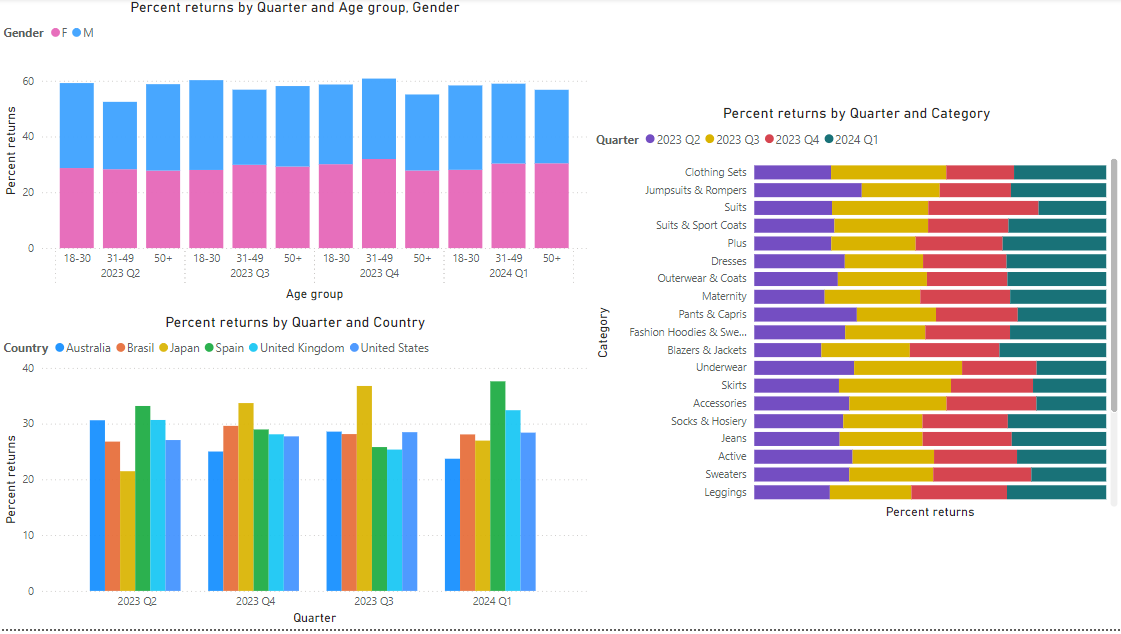

The dashboard page shown, as its layout file describes it:
{"tool":"powerbi","page":{"name":"Order Analysis","canvas":[1280,720],"ordinal":2},"visuals":[{"type":"clusteredColumnChart","title":"Percent returns by Quarter and Country","fields":{"Category":["03_01_return_rate_by_country.quarter"],"Y":["Sum(03_01_return_rate_by_country.percent_returns)"],"Series":["03_01_return_rate_by_country.country"]},"box":[0,359.2,675.6,360.6],"z":0},{"type":"columnChart","title":"Percent returns by Quarter and Age group, Gender","fields":{"Category":["03_02_return_rate_by_age_gender.quarter","03_02_return_rate_by_age_gender.age_group"],"Series":["03_02_return_rate_by_age_gender.gender"],"Y":["Max(03_02_return_rate_by_age_gender.percent_returns)"]},"box":[0,0,675.1,349.9],"z":1000},{"type":"hundredPercentStackedBarChart","title":"Percent returns by Quarter and Category","fields":{"Category":["03_03_return_rate_by_category.category"],"Y":["Max(03_03_return_rate_by_category.percent_returns)"],"Series":["03_03_return_rate_by_category.quarter"]},"box":[675.1,120.8,605.1,477.5],"z":2000}]}

Visuals, with their boxes in screenshot pixels (x1, y1, x2, y2), scaled from the page's 1280x720 canvas onto the 1121x634 screenshot:
"Percent returns by Quarter and Country" clusteredColumnChart: (0,316,592,633)
"Percent returns by Quarter and Age group, Gender" columnChart: (0,0,591,308)
"Percent returns by Quarter and Category" hundredPercentStackedBarChart: (591,106,1120,527)
